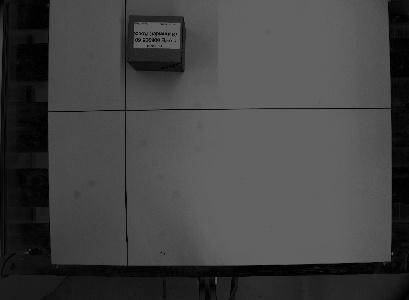b5: (124, 11, 189, 75)
